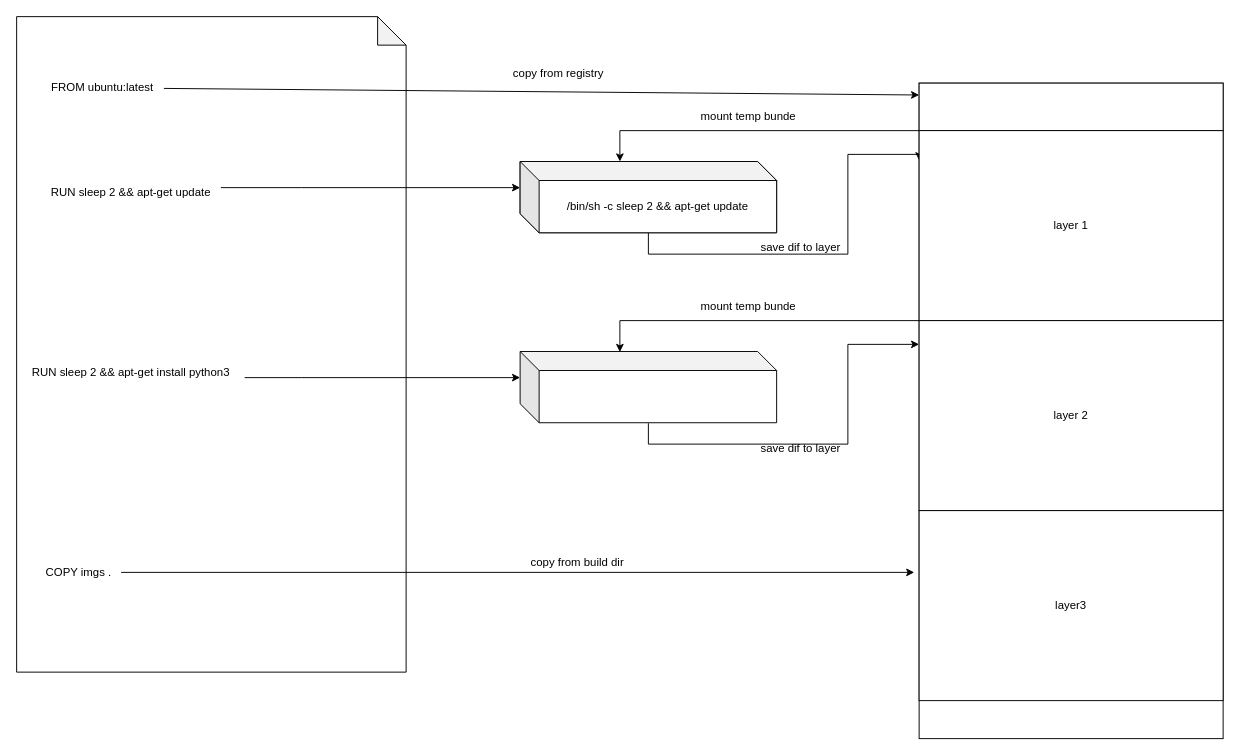
Image size: 1240x755. Some labels were removed from this diagram. The centre of each missing label's shape, as x and y in pixels:
/bin/sh -c sleep 2 && apt-get install python3: pixel 648 387
ubuntu layer: pixel 1070 106
